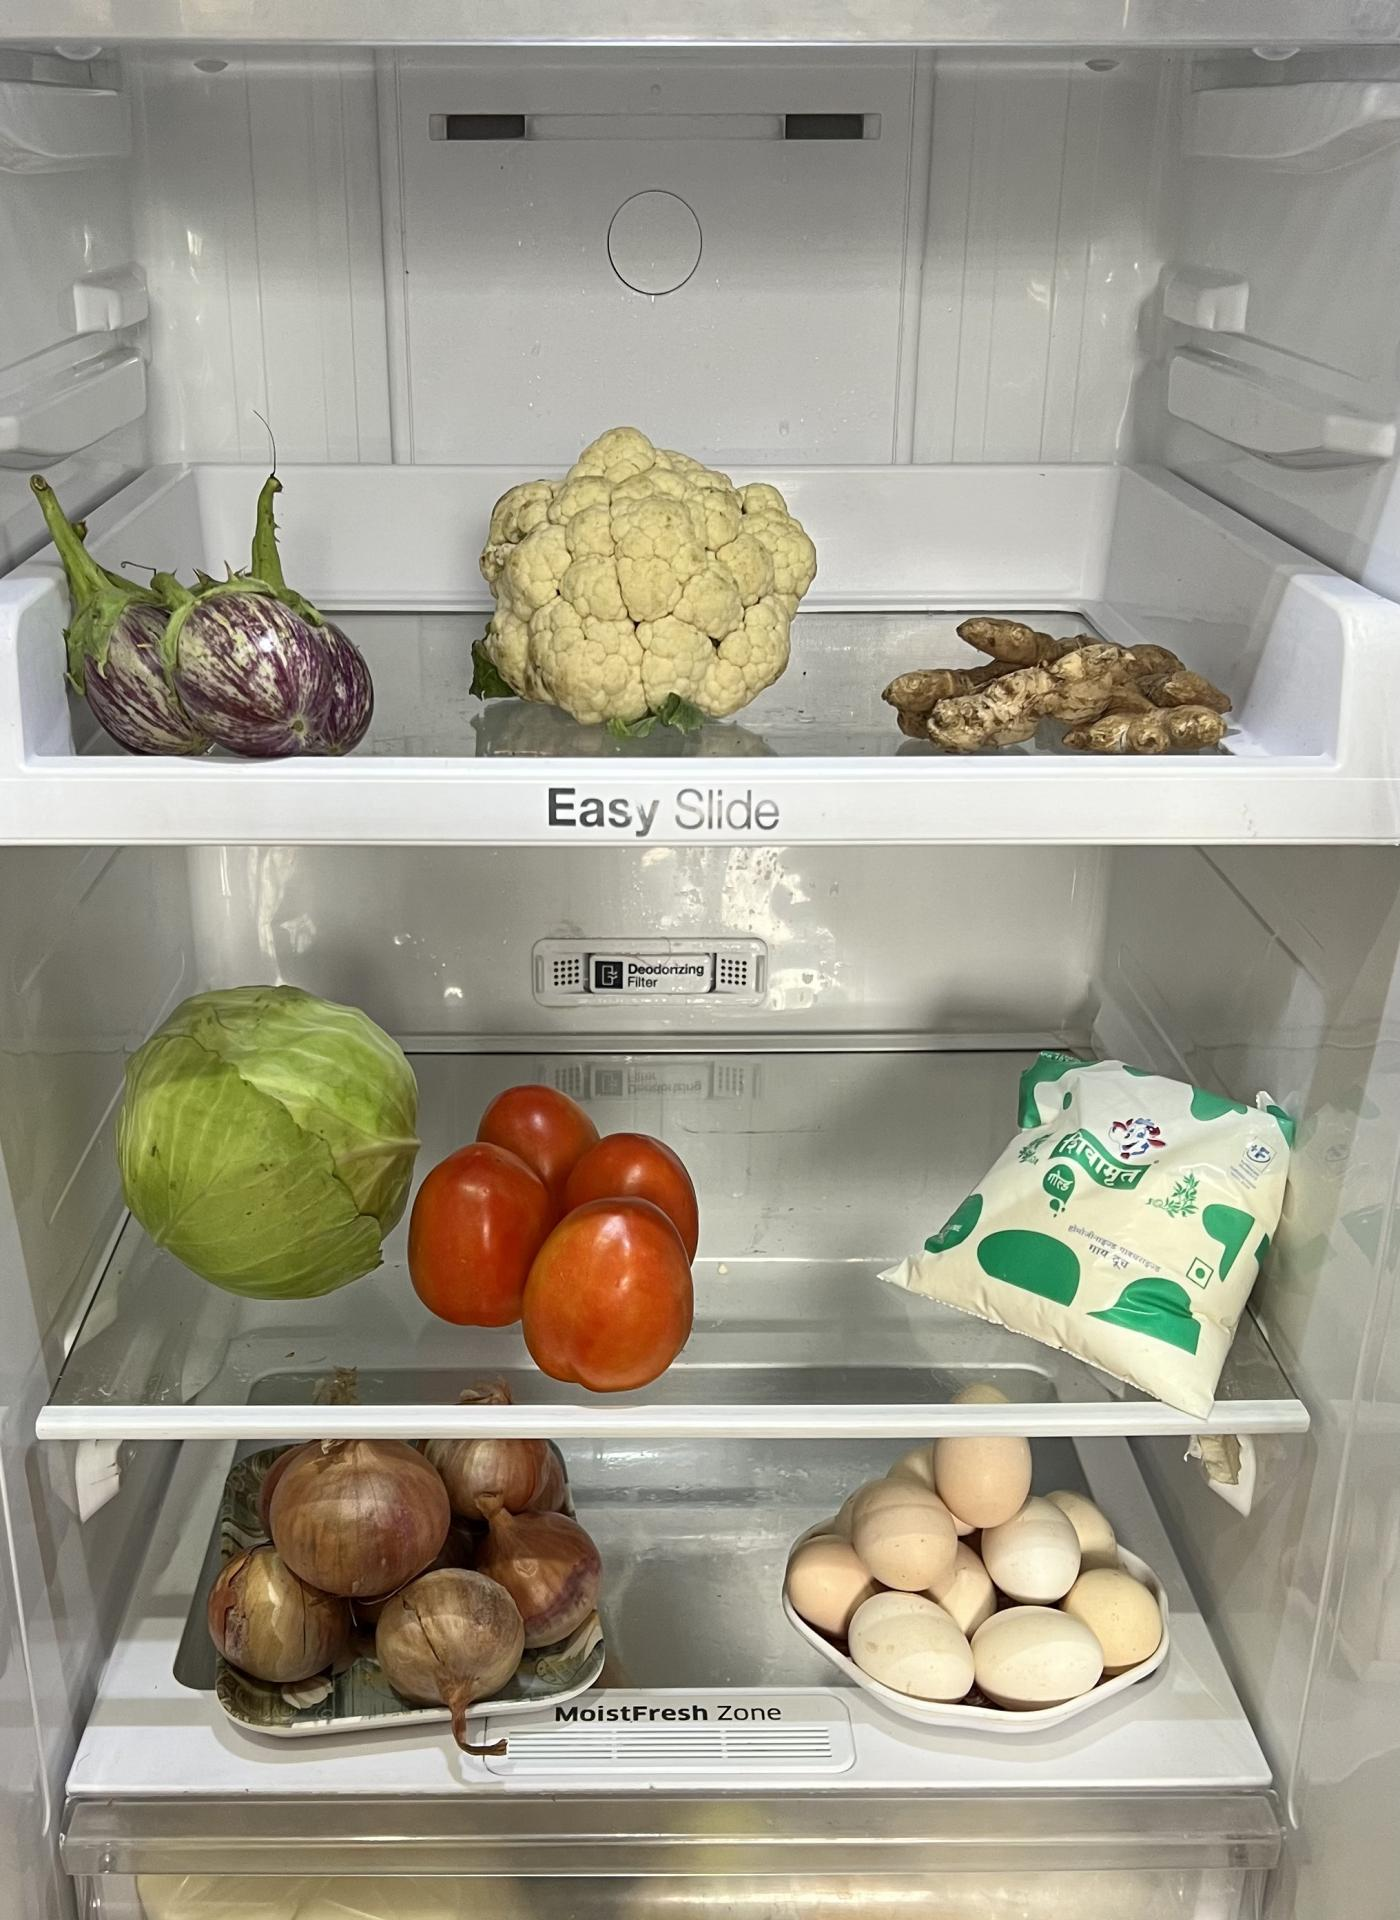cabbage: (110, 978, 414, 1291)
cauliflower: (480, 416, 811, 717)
egg: (793, 1443, 1175, 1714)
ginger: (869, 610, 1237, 757)
milk: (875, 1039, 1297, 1394)
onion: (194, 1443, 608, 1707)
tomato: (417, 1085, 698, 1385)
